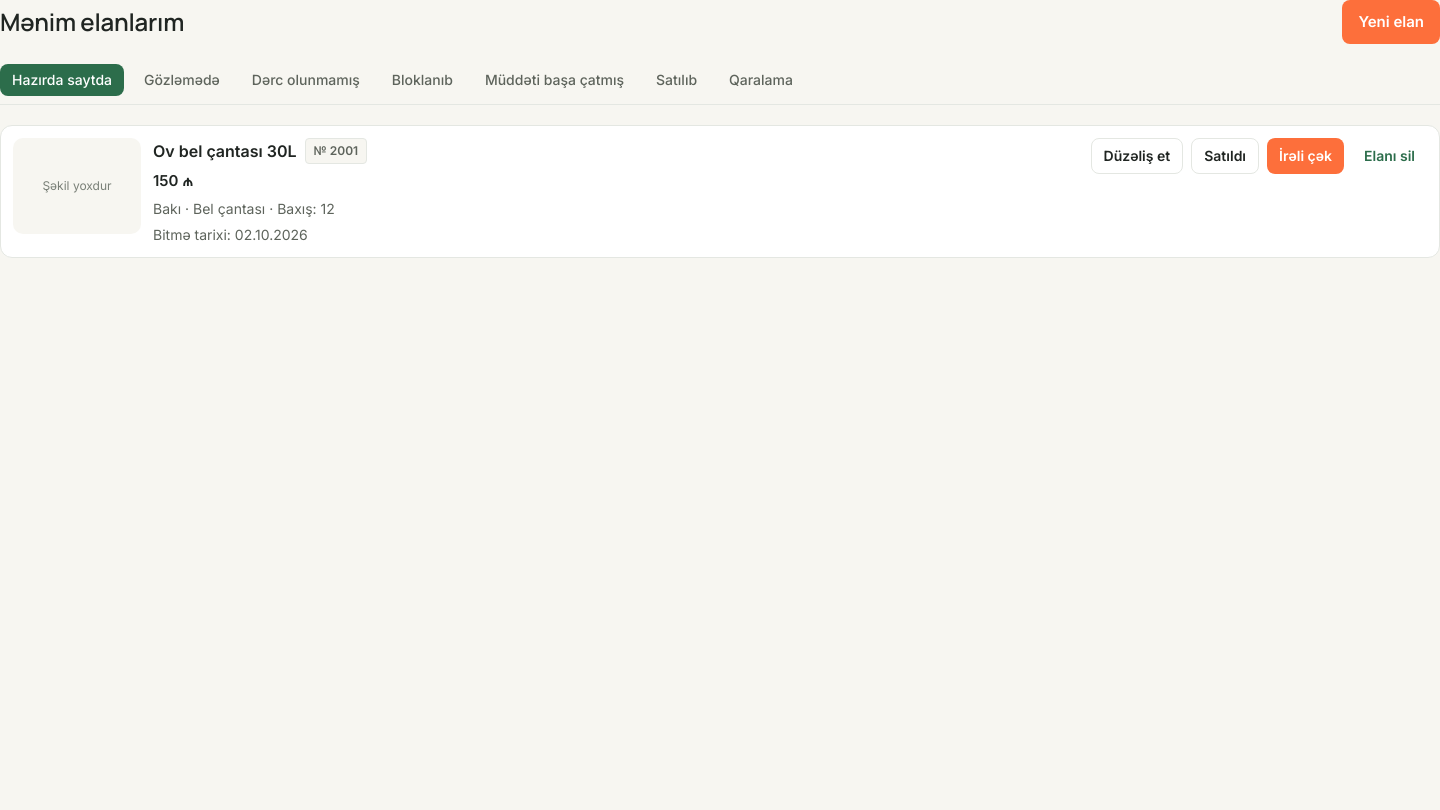
Scenario: MyListingsPage › tells the seller the server’s own reason when a purchase is refused
Click the button "İrəli çək": (1306, 156) [1267,138,1344,174]
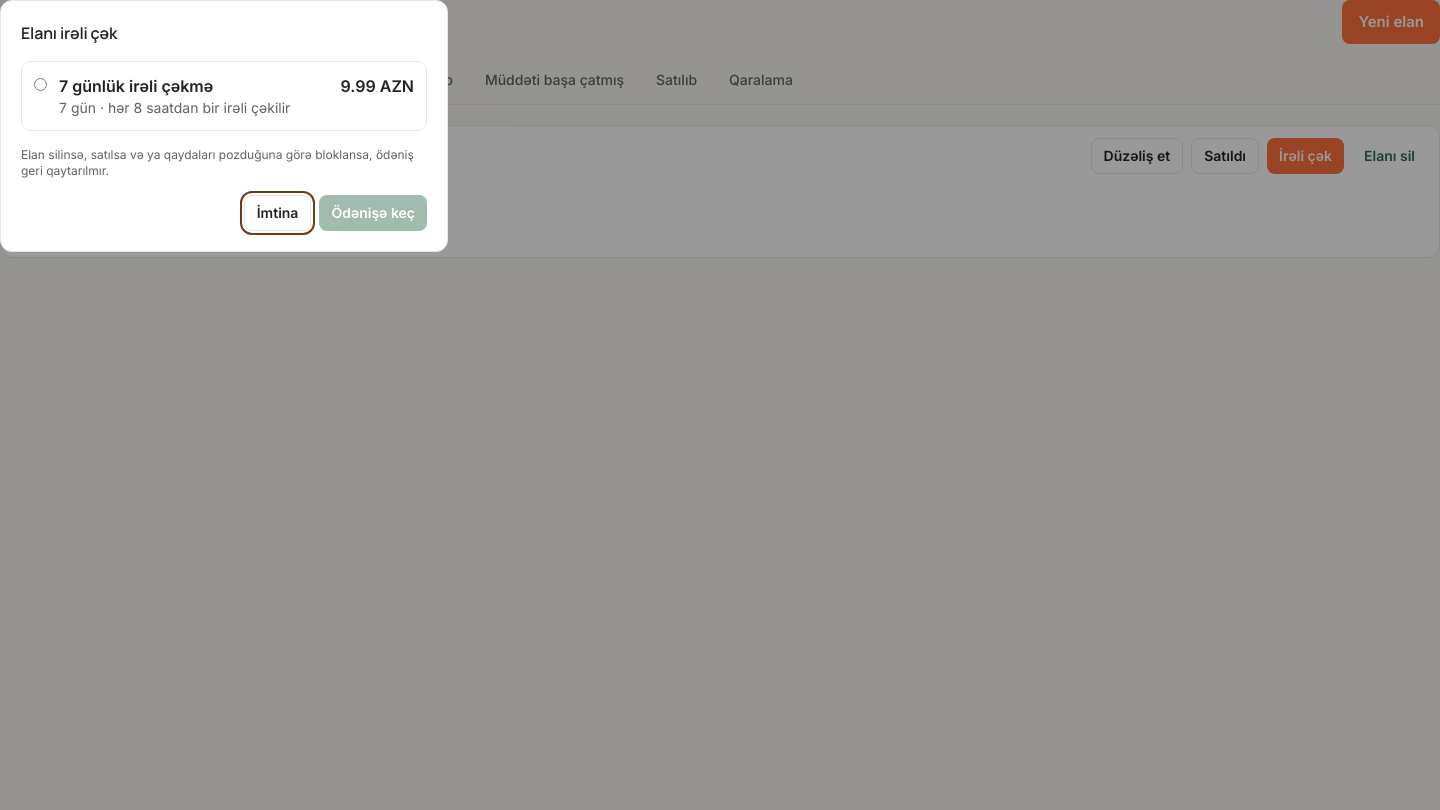
Check: the text "7 gün · hər 8 saatdan bir irəli çəkilir" is shown, box [59,98,290,118]
Check: the text "ödəniş geri qaytarılmır" is shown, box [21,147,414,178]
Click the text "7 günlük irəli çəkmə": (136, 86) [59,76,213,96]
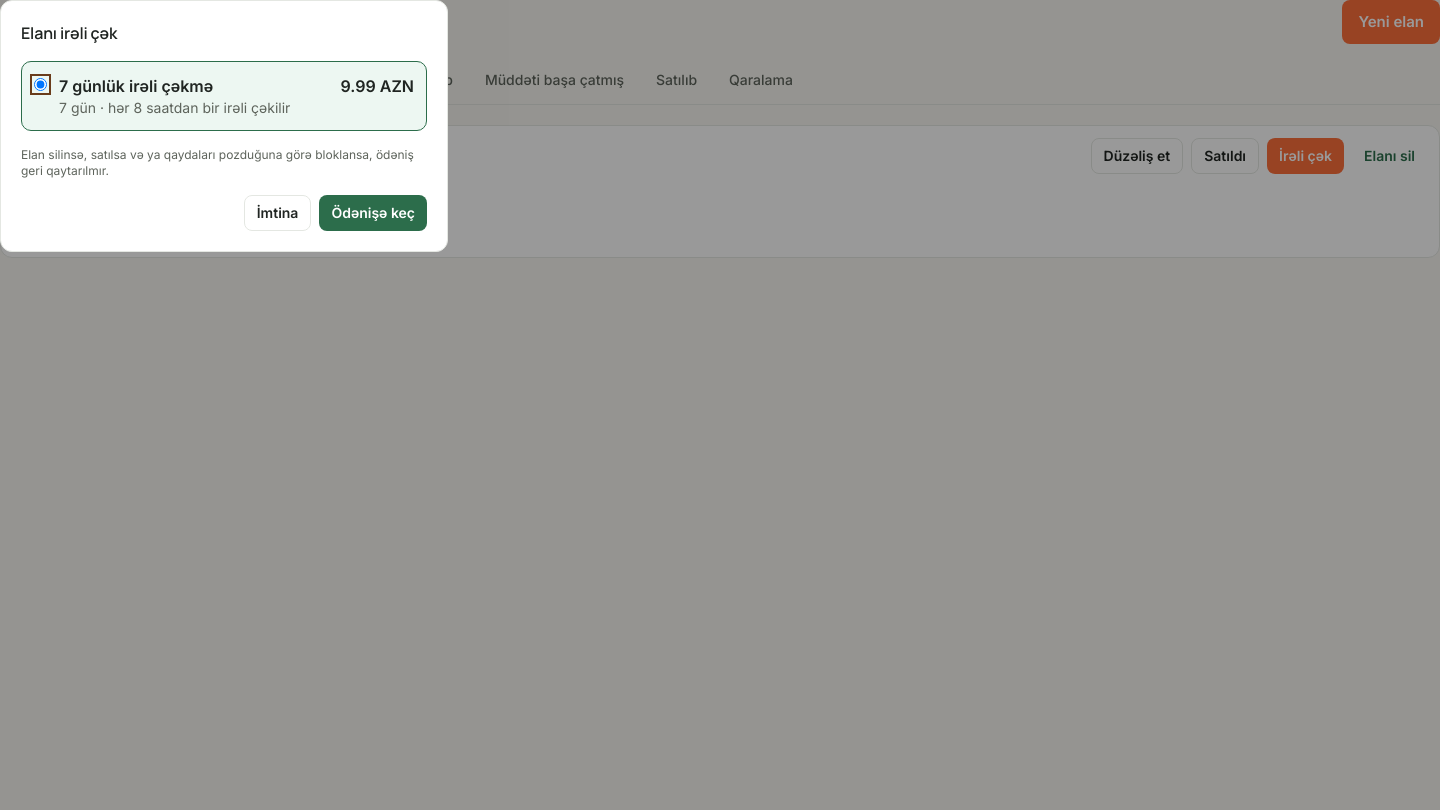
Click the button "Ödənişə keç": (373, 213) [319,195,427,231]
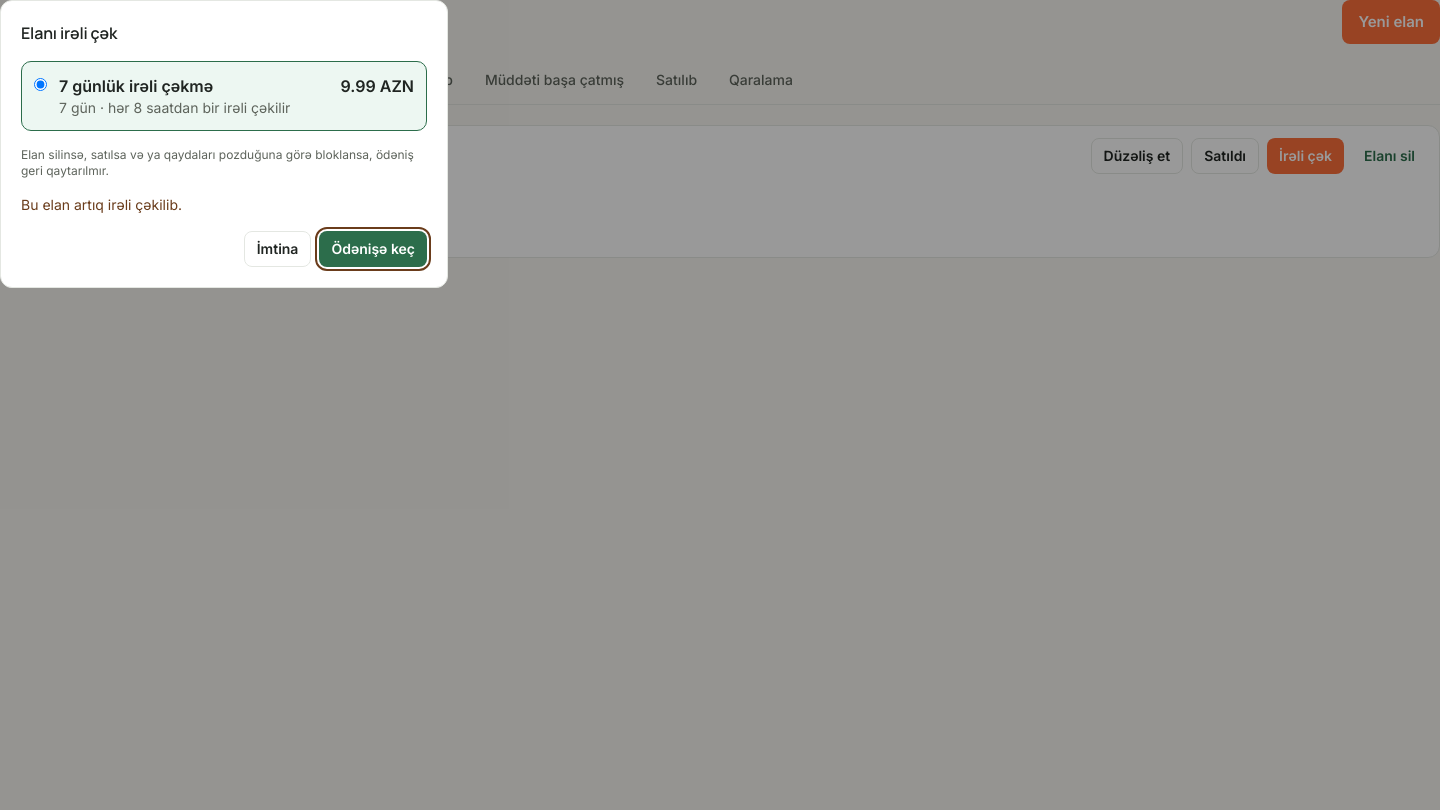
Check: the message reads "Bu elan artıq irəli çəkilib.", box [21,196,182,213]
